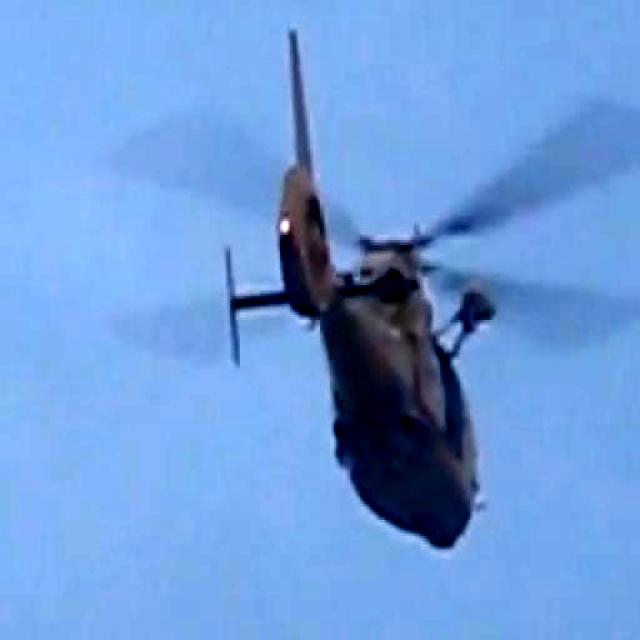drone: (132, 21, 585, 556)
